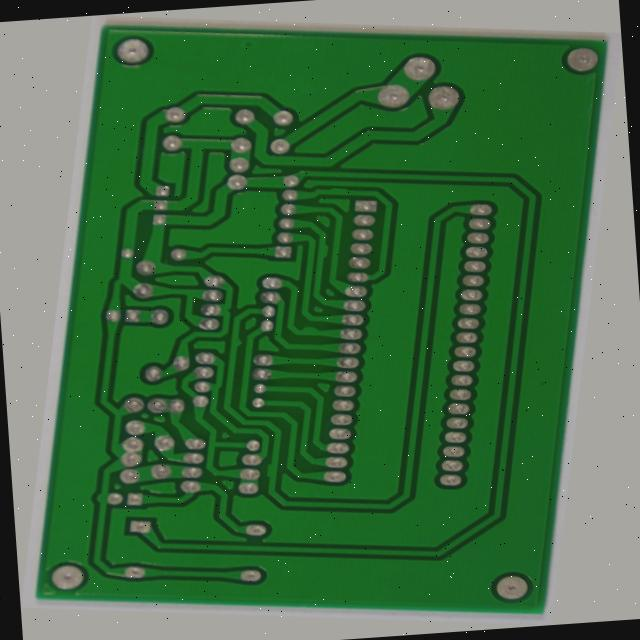spur: (293, 324, 322, 344), (281, 474, 300, 500), (296, 172, 325, 188), (297, 232, 316, 256), (210, 343, 233, 362)
